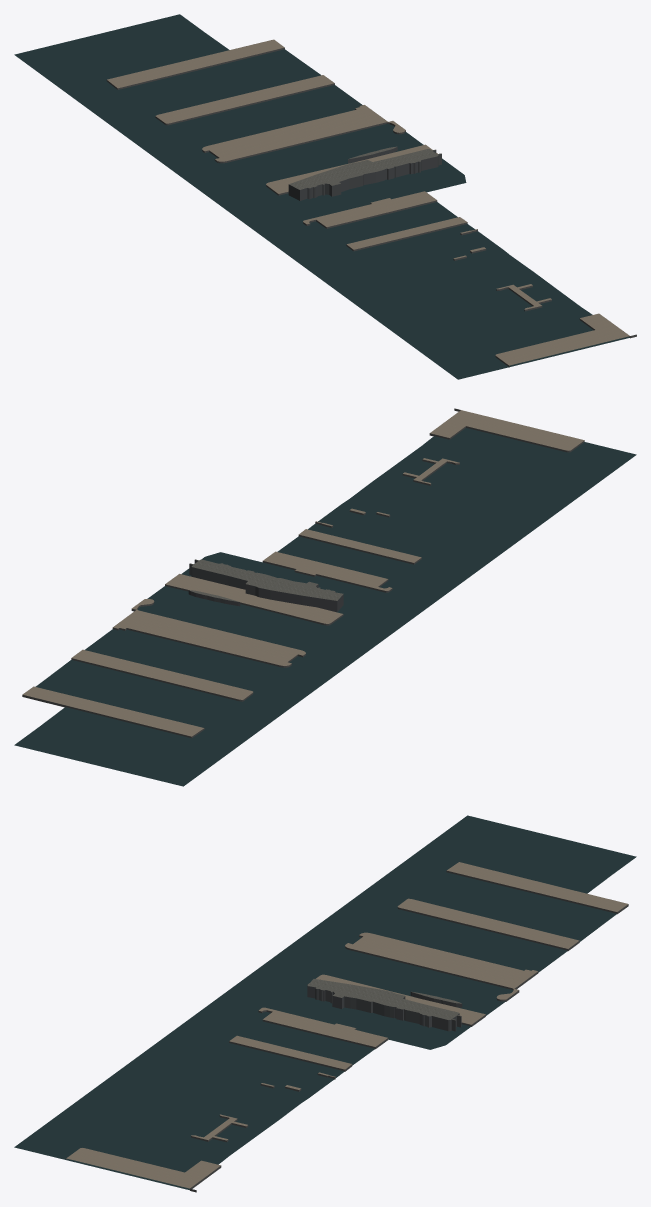
The model's file is water.glb.
The picture shows the model from 3 angles, top to bottom: view 1: azimuth 30°, elevation 25°; view 2: azimuth 150°, elevation 25°; view 3: azimuth 330°, elevation 25°; orthographic projection. The views are drawn at different scales.
Parts seen in each view (by area): view 1: TER_TS_Water_Hudson, TER_TS_Piers, BLD_TS_USSIntrepid; view 2: TER_TS_Water_Hudson, TER_TS_Piers, BLD_TS_USSIntrepid; view 3: TER_TS_Water_Hudson, TER_TS_Piers, BLD_TS_USSIntrepid.
Part boxes in pixels (x1,y1,x2,y2): TER_TS_Water_Hudson: (14,14,629,379); TER_TS_Piers: (106,39,636,367); BLD_TS_USSIntrepid: (288,149,441,200); TER_TS_Water_Hudson: (14,428,636,786); TER_TS_Piers: (22,408,584,738); BLD_TS_USSIntrepid: (189,559,343,611); TER_TS_Water_Hudson: (14,815,636,1190); TER_TS_Piers: (66,862,628,1192); BLD_TS_USSIntrepid: (307,979,461,1031).
Bounding box in the file's own units: 409 × 21.81 × 1460.
Materials: 5 (3 with a texture image).
